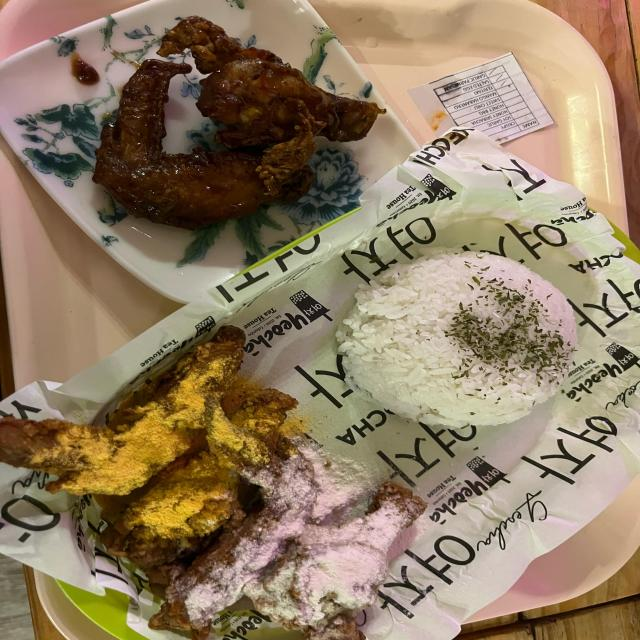Chicken -Chicken Inasal-: (346, 245, 558, 430)
